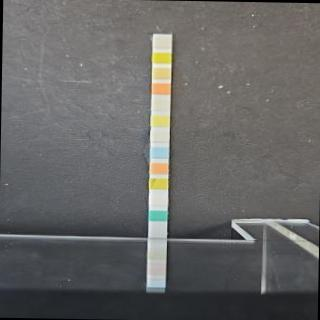mark: (148, 192, 168, 205), (152, 66, 170, 80), (151, 82, 170, 95), (152, 98, 170, 111), (153, 35, 171, 48), (148, 210, 166, 222), (150, 178, 168, 190), (150, 162, 168, 174), (150, 146, 168, 158), (152, 52, 170, 64), (151, 130, 168, 142), (152, 114, 168, 126)
